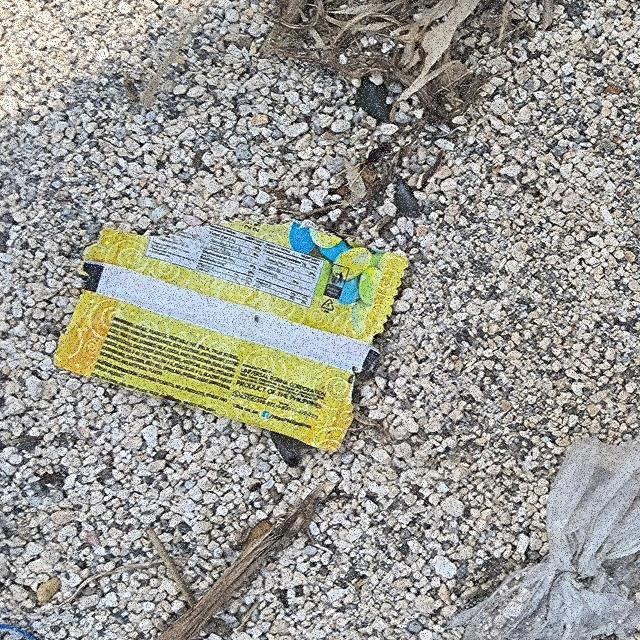plastic_waste: (51, 218, 411, 454)
